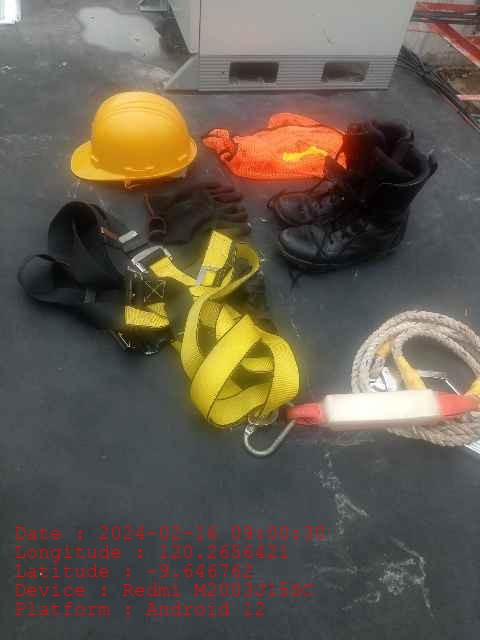HELM: (70, 91, 196, 183)
SEPATU: (273, 121, 433, 271)
TAMBANG_SLING: (299, 309, 480, 448)
